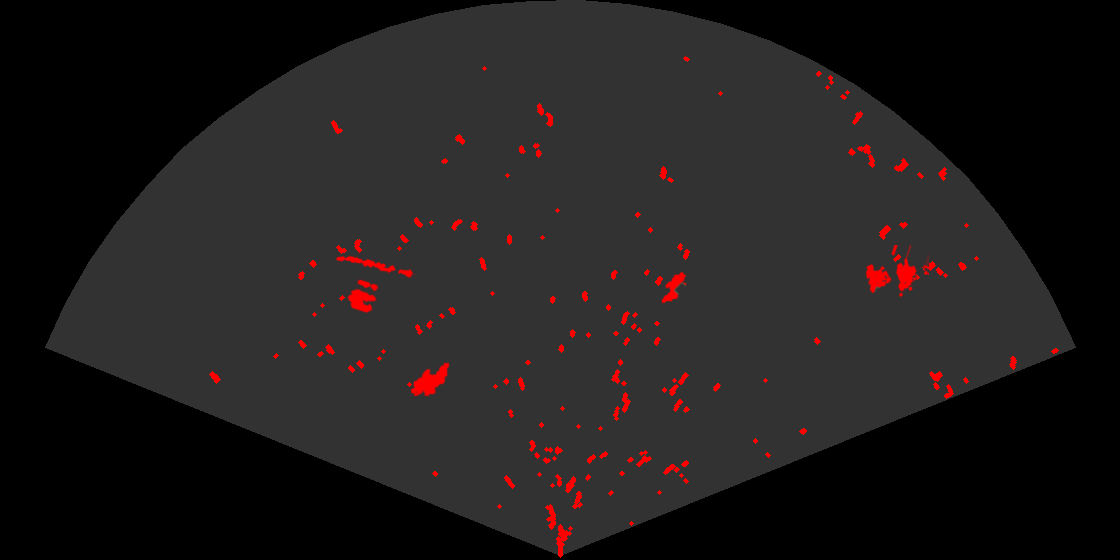AUV: (409, 361, 451, 398), (660, 270, 688, 305)
ball: (346, 278, 380, 315)
cage: (864, 245, 929, 299)
chain: (334, 254, 417, 279)
